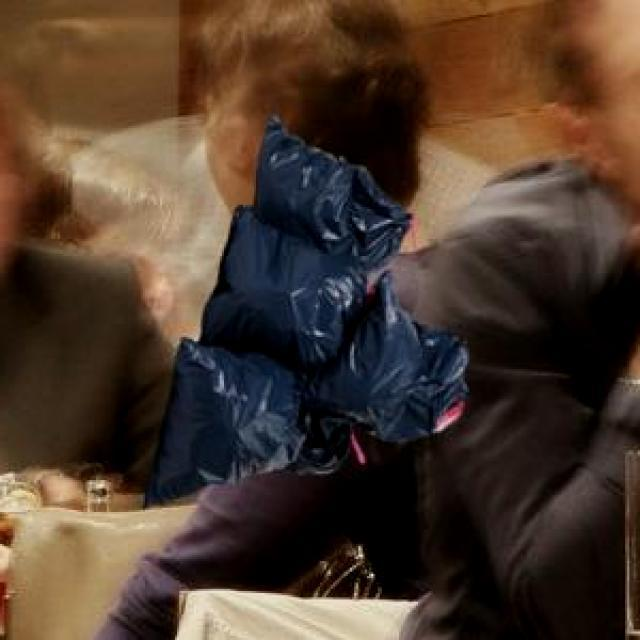Trashbag: (328, 293, 486, 440), (152, 358, 312, 498), (208, 231, 349, 366), (258, 130, 402, 250)
